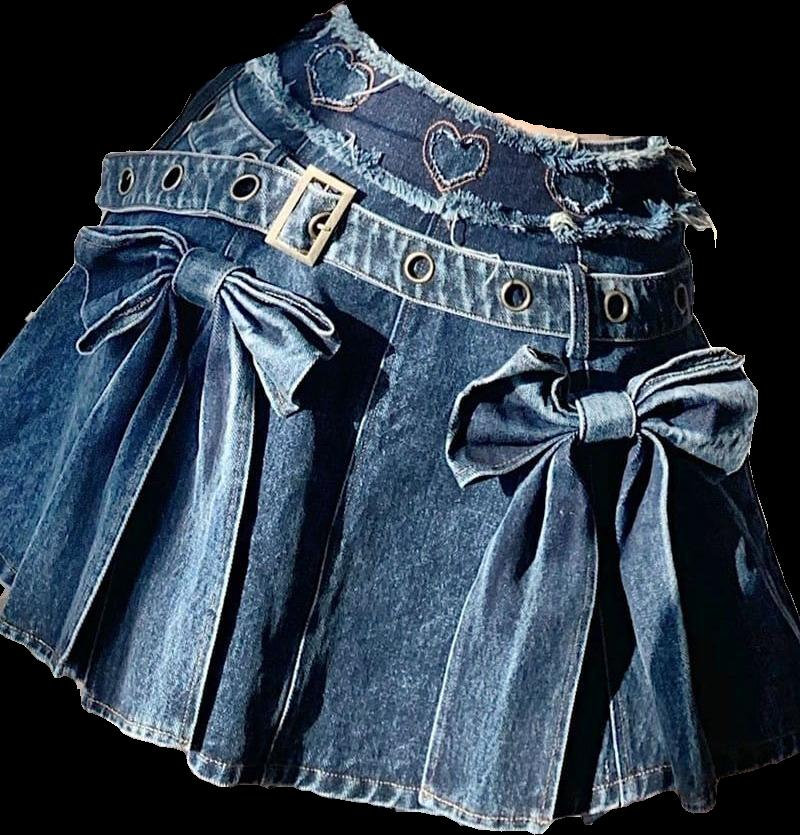Hemline: (0, 623, 799, 834)
Waistline: (233, 71, 694, 282), (339, 3, 670, 154)
